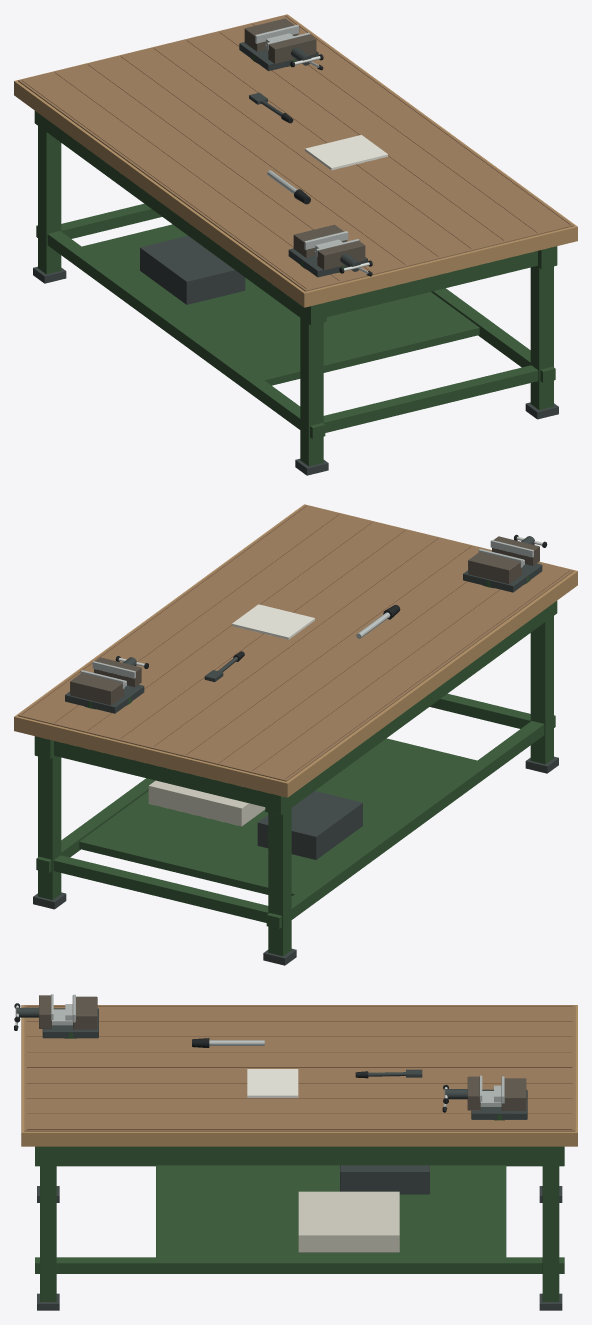
File: bench.glb
3 views of the same model, one above another, from view 1: azimuth 30°, elevation 25°; view 2: azimuth 150°, elevation 25°; view 3: azimuth 270°, elevation 25° (orthographic). The views are drawn at different scales.
Parts seen in each view (by area): view 1: BENCH_01_Body, BENCH_01_Vise1Base, BENCH_01_Vise2Base, BENCH_01_Vise1Jaw_Mesh, BENCH_01_Vise2Jaw_Mesh; view 2: BENCH_01_Body, BENCH_01_Vise2Base, BENCH_01_Vise1Base, BENCH_01_Vise2Jaw_Mesh, BENCH_01_Vise1Jaw_Mesh; view 3: BENCH_01_Body, BENCH_01_Vise1Base, BENCH_01_Vise2Base, BENCH_01_Vise2Jaw_Mesh, BENCH_01_Vise1Jaw_Mesh.
Boxes of the visible parts, box(x1,y1,x2,y2) form: BENCH_01_Body: box(14, 14, 577, 475); BENCH_01_Vise1Base: box(288, 224, 367, 277); BENCH_01_Vise2Base: box(239, 18, 318, 71); BENCH_01_Vise1Jaw_Mesh: box(316, 239, 372, 276); BENCH_01_Vise2Jaw_Mesh: box(267, 32, 323, 70); BENCH_01_Body: box(14, 504, 577, 965); BENCH_01_Vise2Base: box(65, 670, 144, 713); BENCH_01_Vise1Base: box(463, 549, 542, 592); BENCH_01_Vise2Jaw_Mesh: box(92, 657, 141, 687); BENCH_01_Vise1Jaw_Mesh: box(490, 536, 539, 565); BENCH_01_Body: box(21, 1004, 577, 1310); BENCH_01_Vise1Base: box(42, 994, 98, 1038); BENCH_01_Vise2Base: box(471, 1076, 527, 1120); BENCH_01_Vise2Jaw_Mesh: box(442, 1075, 482, 1112); BENCH_01_Vise1Jaw_Mesh: box(14, 994, 53, 1030).
Bounding box in the file's own units: 1.35 × 1.02 × 2.51.
